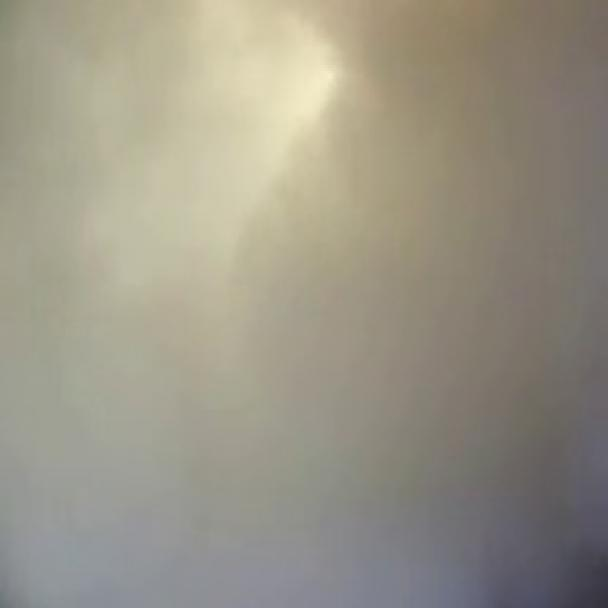smoke: (5, 5, 605, 605)
